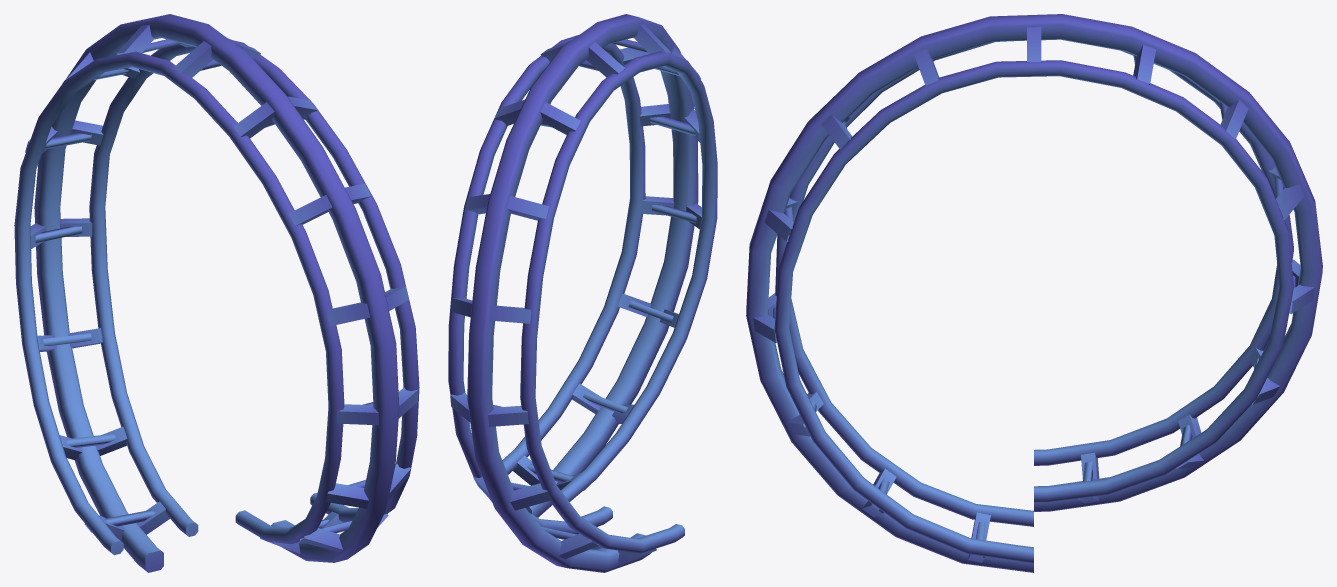
The model's file is coaster-steel-looping.glb.
The picture shows the model from 3 angles, left to right: view 1: azimuth 30°, elevation 25°; view 2: azimuth 150°, elevation 25°; view 3: azimuth 270°, elevation 25°; orthographic projection. The views are drawn at different scales.
Visible parts, largest first — view 1: coaster-steel-looping; view 2: coaster-steel-looping; view 3: coaster-steel-looping.
Part boxes in pixels (left/top/right/bottom): coaster-steel-looping: left=14, top=14, right=419, bottom=572; coaster-steel-looping: left=448, top=14, right=717, bottom=572; coaster-steel-looping: left=746, top=14, right=1322, bottom=572.
Size of the model in its own units: 1.7 by 3.99 by 3.99.
1 material, 1 textured.
